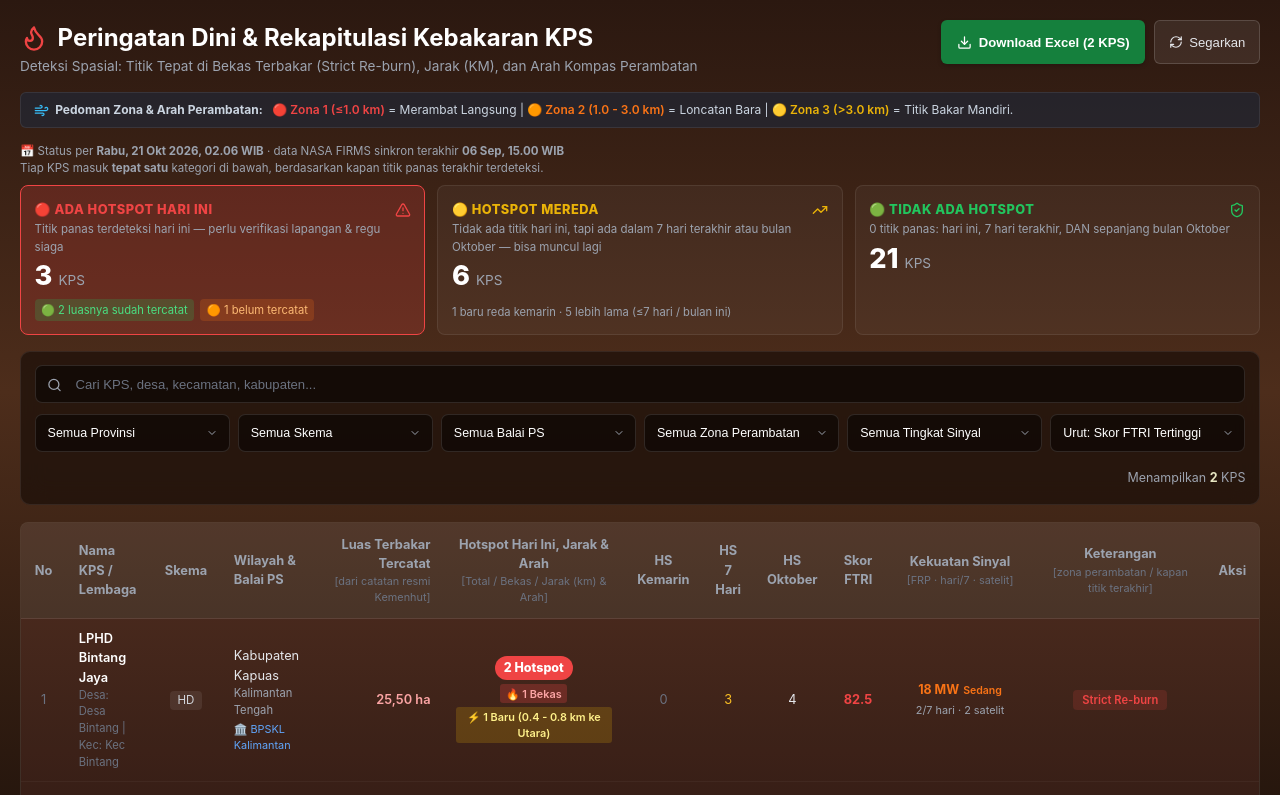
EarlyWarningView › filters items via search and updates the download button count
The width and height of the screenshot is (1280, 795).
Check: the text "LPHD Bintang Jaya" is shown, box [79,631,126,684]
Type "Bintang" into the field with placeholder "Cari KPS, desa, kecamatan, kabupaten...".
click(640, 385); type("Bintang")  # box [35,366,1245,404]
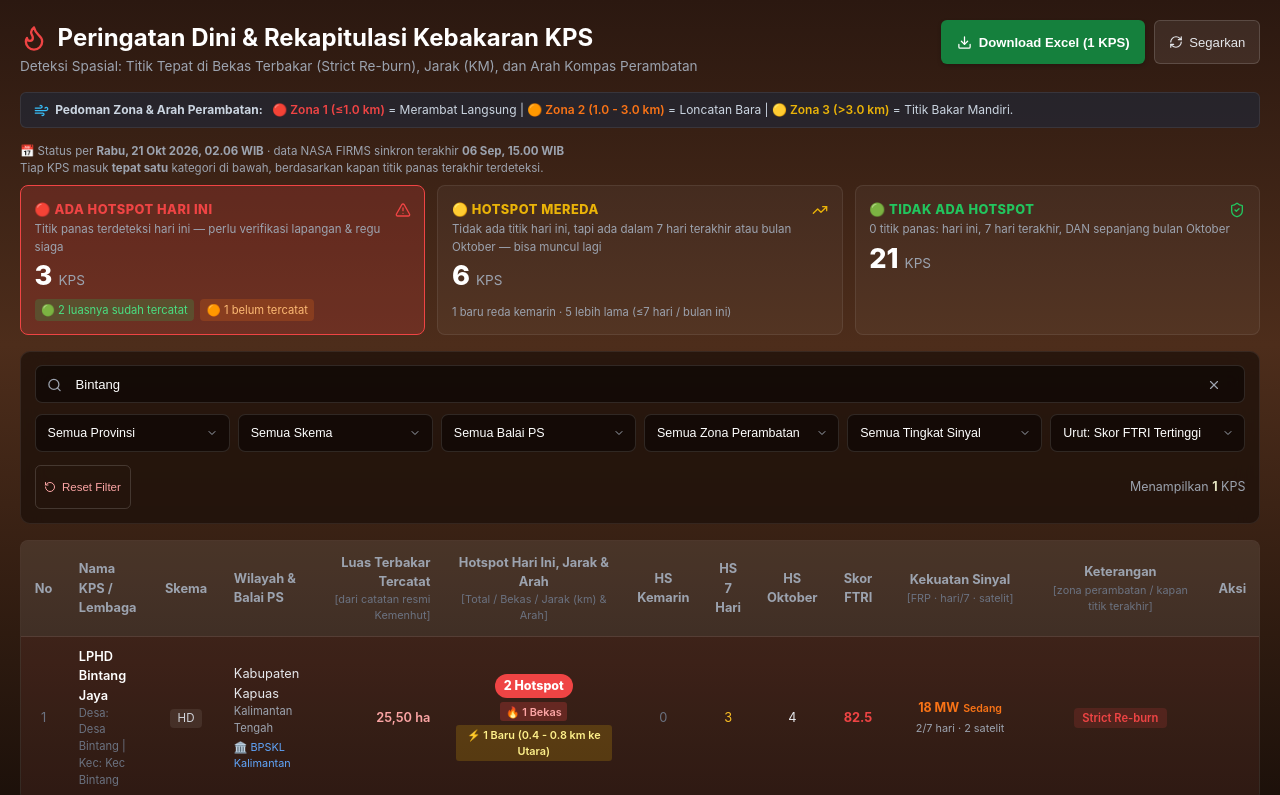
Check: the text "LPHD Bintang Jaya" is shown, box [79,649,126,702]
Check: the button "Download Excel (1 KPS)" is shown, box [941,20,1145,64]
